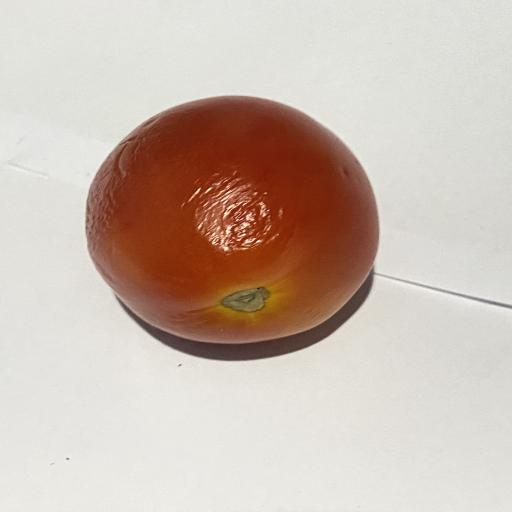spoiled: (86, 96, 379, 343)
